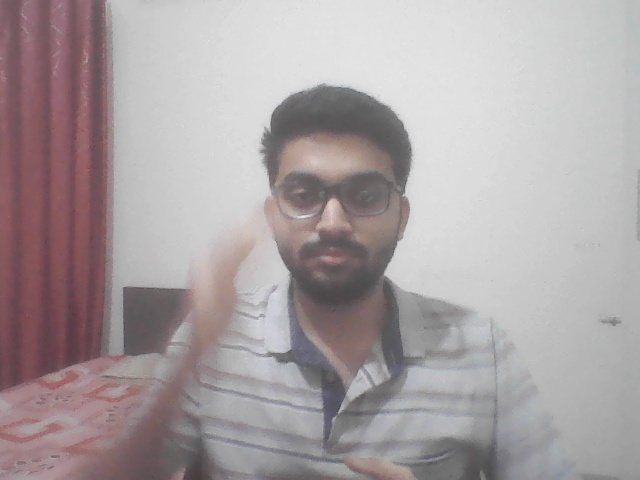hello: (150, 187, 298, 393)
